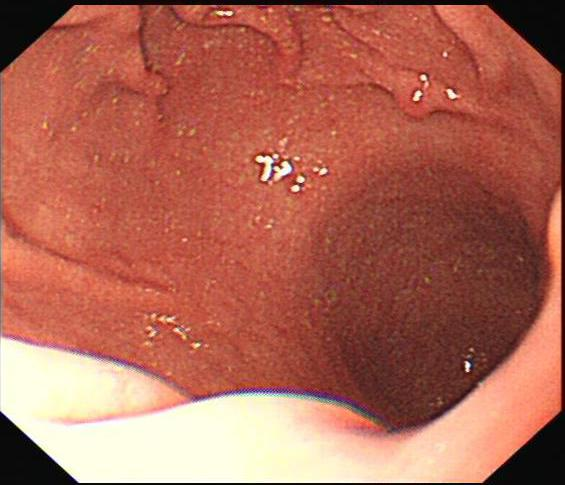Polyp: (389, 61, 442, 123)
